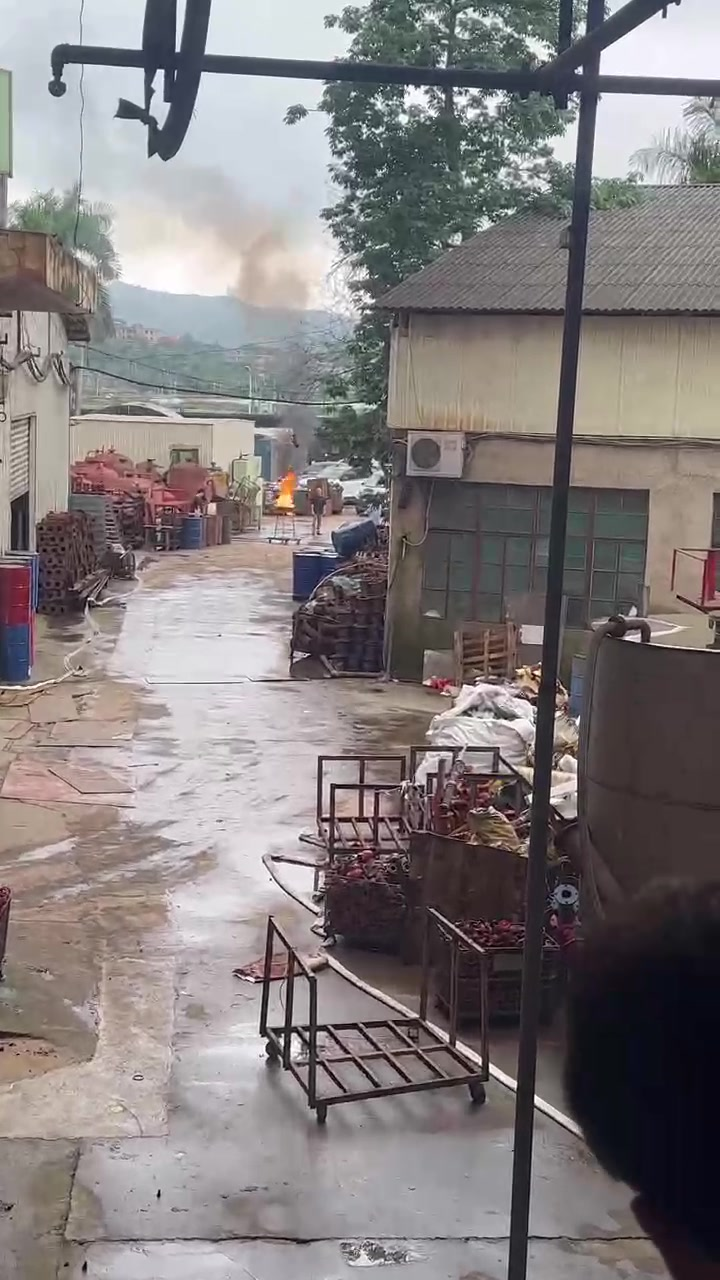fire: (273, 471, 294, 507)
